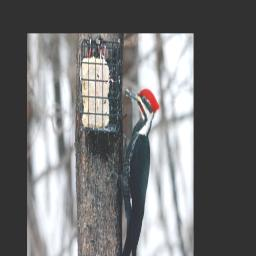Woodpecker: (105, 83, 160, 256)
